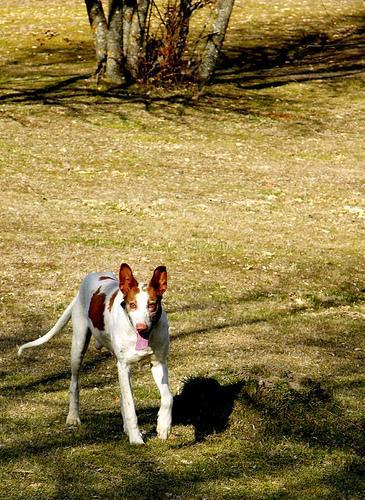Ibizan_hound: (15, 262, 175, 446)
